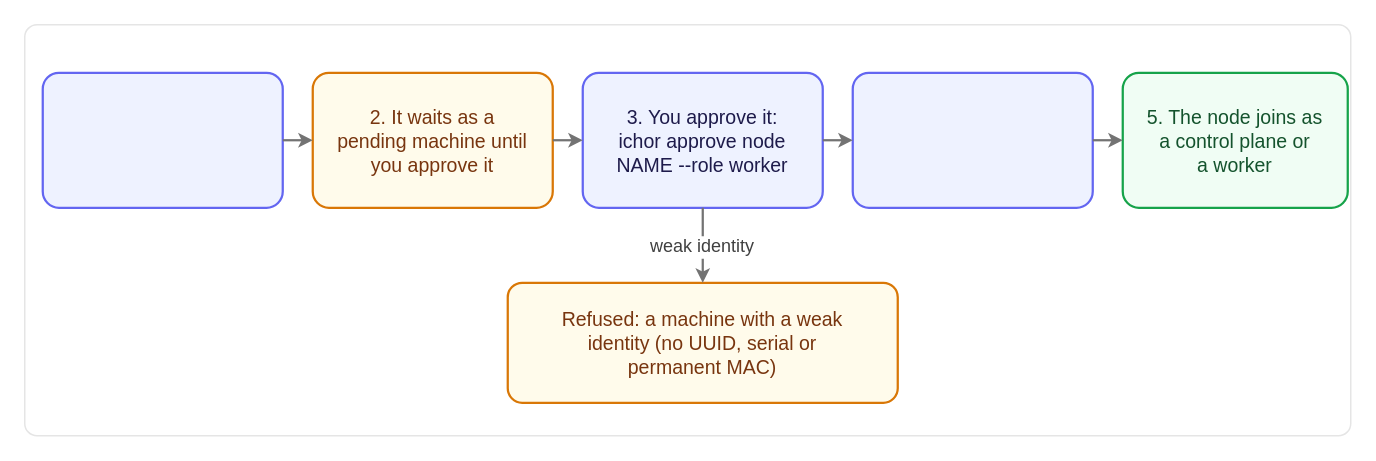
This 1376x461 diagram has some shape labels left out. The shapes that lost their labels are listed below. From the top down, each one's box as (x1, y1, x2, y2) in pixels, then its label:
(41, 71, 283, 208): 1. Discovery finds the node in maintenance mode by address scan
(851, 71, 1093, 208): 4. The controller applies the config; the node installs Talos, reboots
